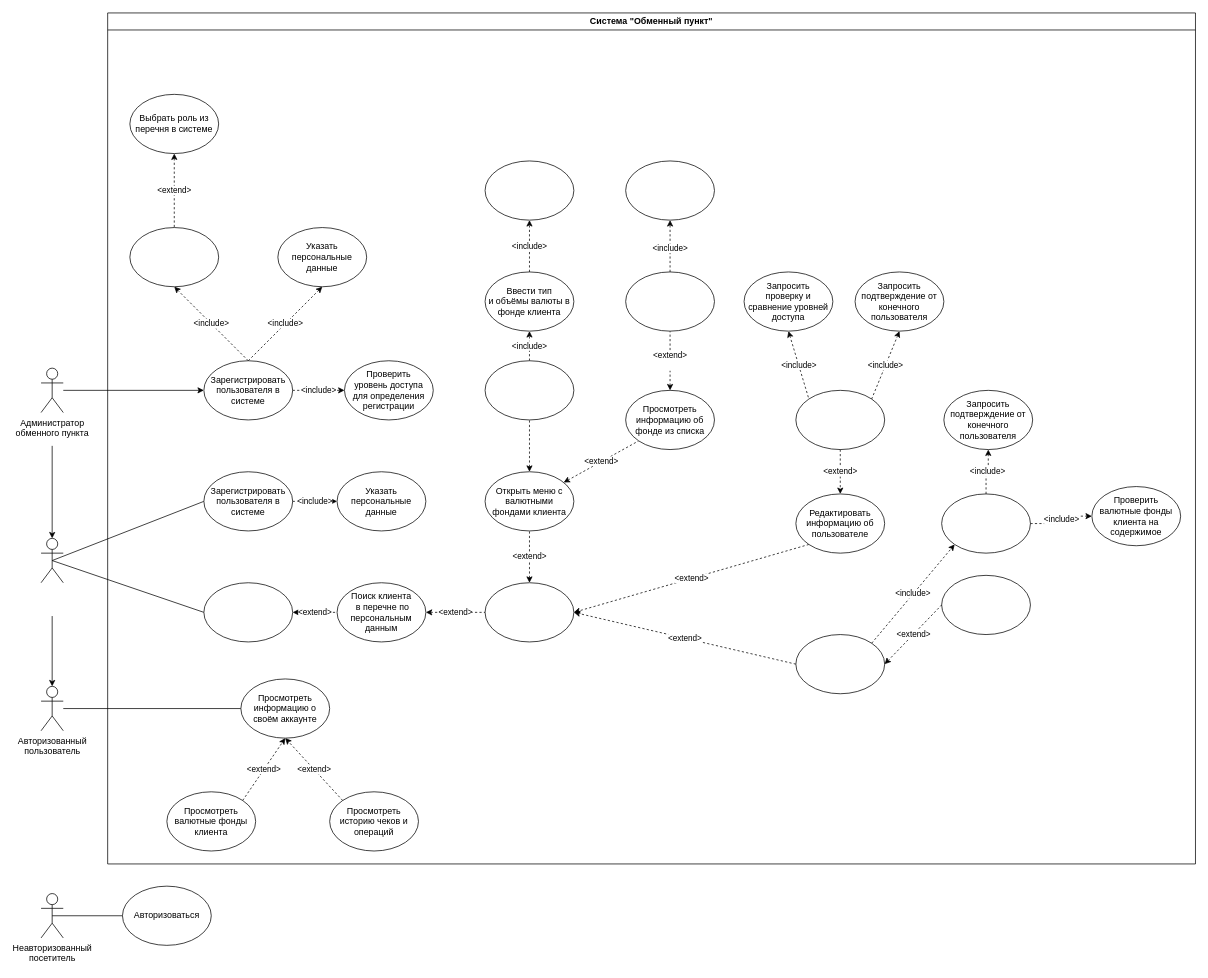
This 1208x978 diagram has some shape labels left out. Here are the shapes that lost their labels. From the top down, the centre of each, then its label:
At (x=529, y=190): "Сохранить новый фонд и сохранить операцию в чеке".
At (x=669, y=190): "Сохранить изменения в валютном фонде".
At (x=174, y=257): "Указать роль и к ней права доступа".
At (x=669, y=301): "Редактировать объёмы валютного фонда".
At (x=529, y=390): "Создать новый валютный фонд для клиента".
At (x=840, y=420): "Удалить пользователя с уровнем доступа ниже".
At (x=985, y=523): "Обозначить валюты и их объёмы для обмена".
At (x=51, y=560): "Работник обменного пункта".
At (x=248, y=612): "Просмотреть список клиентов в обменном пункте".
At (x=529, y=612): "Просмотреть информацию об аккаунте в системе".
At (x=985, y=605): "Просмотреть результаты через внутренний конвертер".
At (x=840, y=664): "Совершить валютный обмен".
